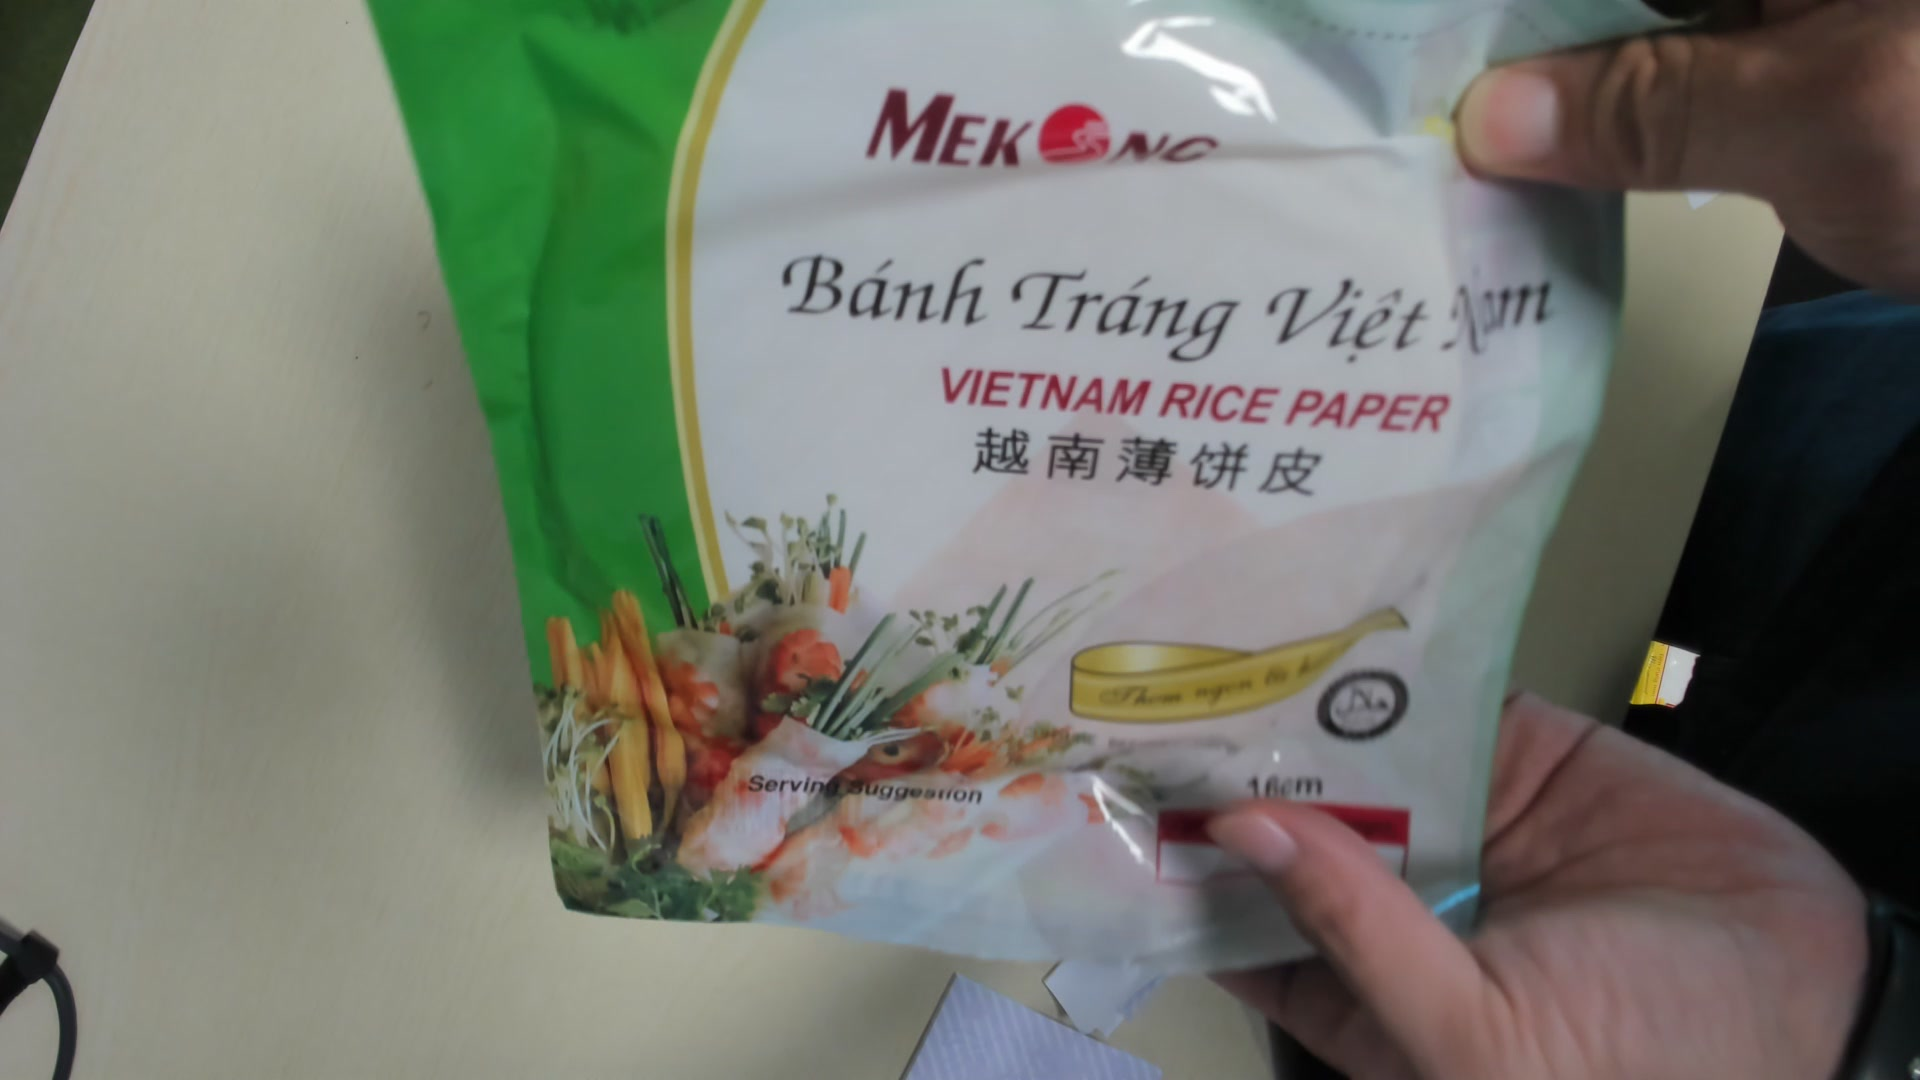InstantMeals_300_399g_NonHalal_NonHealthy: (375, 12, 1659, 973)
